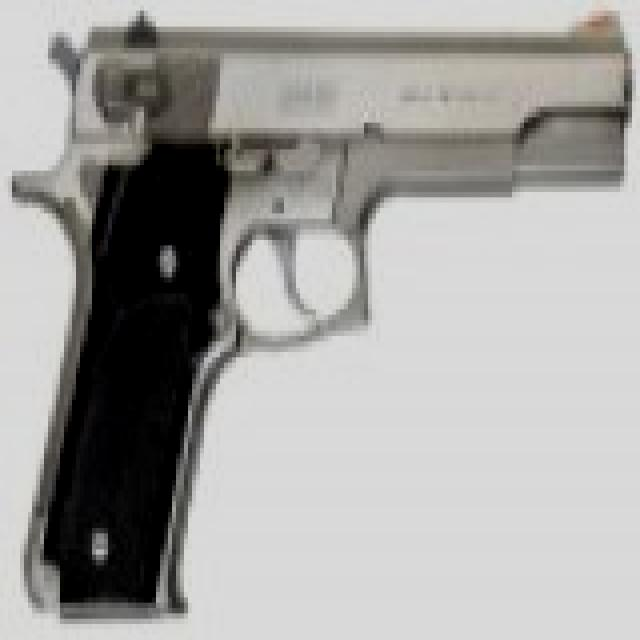pistol: (28, 0, 640, 608)
